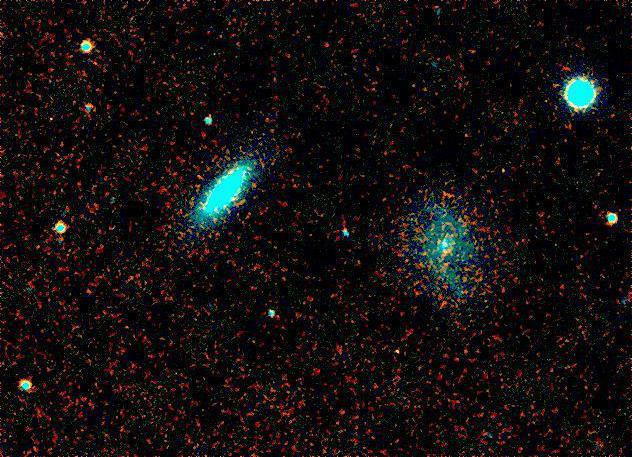star: (304, 35, 334, 65)
